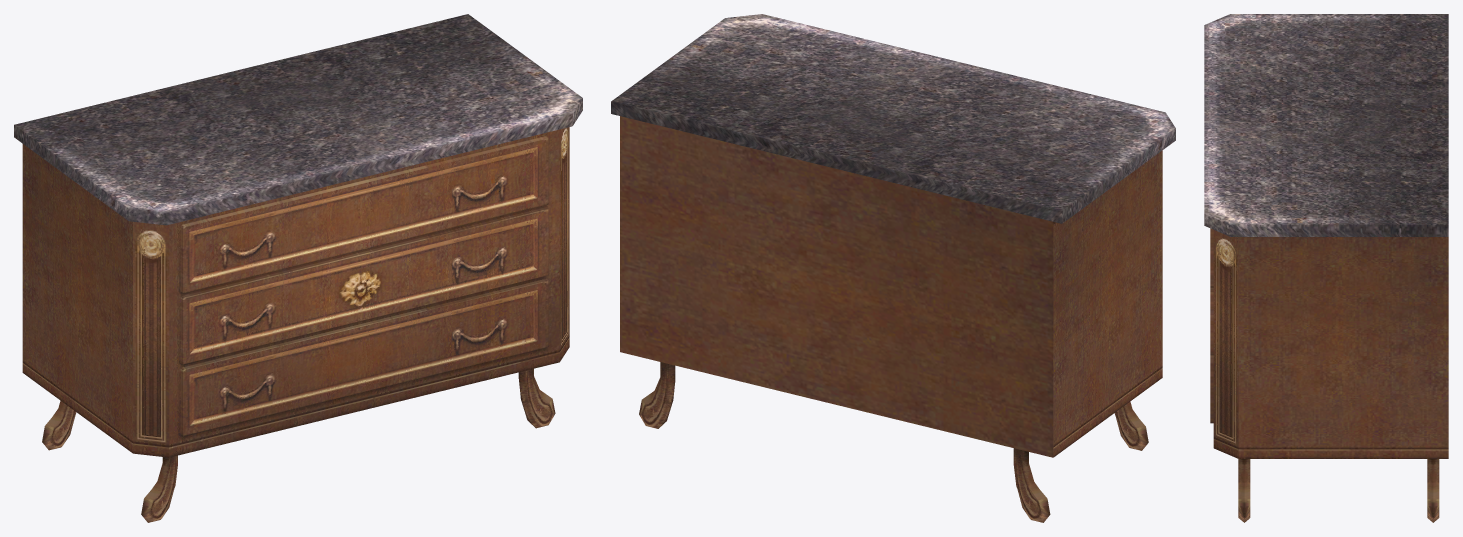
File: storage_b_from_fps_creator_classic.glb
3 views of the same model, side by side, from view 1: azimuth 30°, elevation 25°; view 2: azimuth 150°, elevation 25°; view 3: azimuth 270°, elevation 25° (orthographic). The views are drawn at different scales.
Visible parts, largest first — view 1: storage_b; view 2: storage_b; view 3: storage_b.
Boxes of the visible parts, <box> form: storage_b: <box>14,14,582,522</box>; storage_b: <box>611,14,1175,522</box>; storage_b: <box>1204,14,1448,522</box>.
Bounding box in the file's own units: 1.23 × 0.847 × 0.6041.
1 material, 1 textured.
